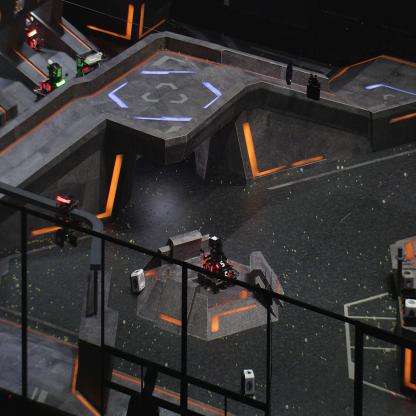car: (197, 235, 240, 293), (72, 49, 109, 101), (33, 56, 70, 107), (12, 14, 44, 54)
